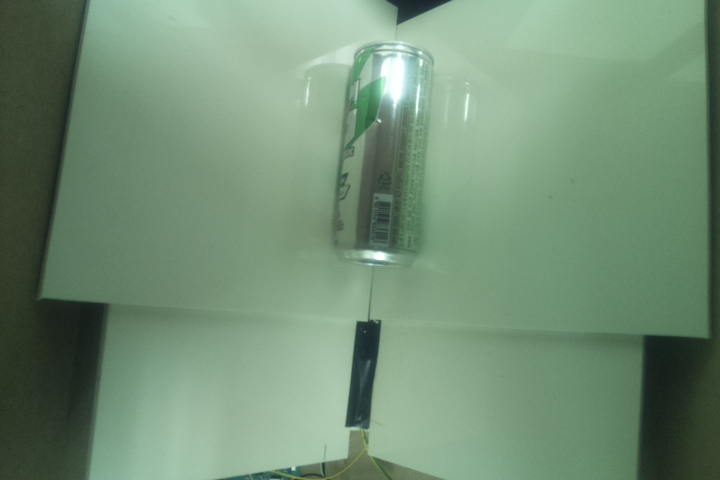can: (330, 38, 441, 267)
